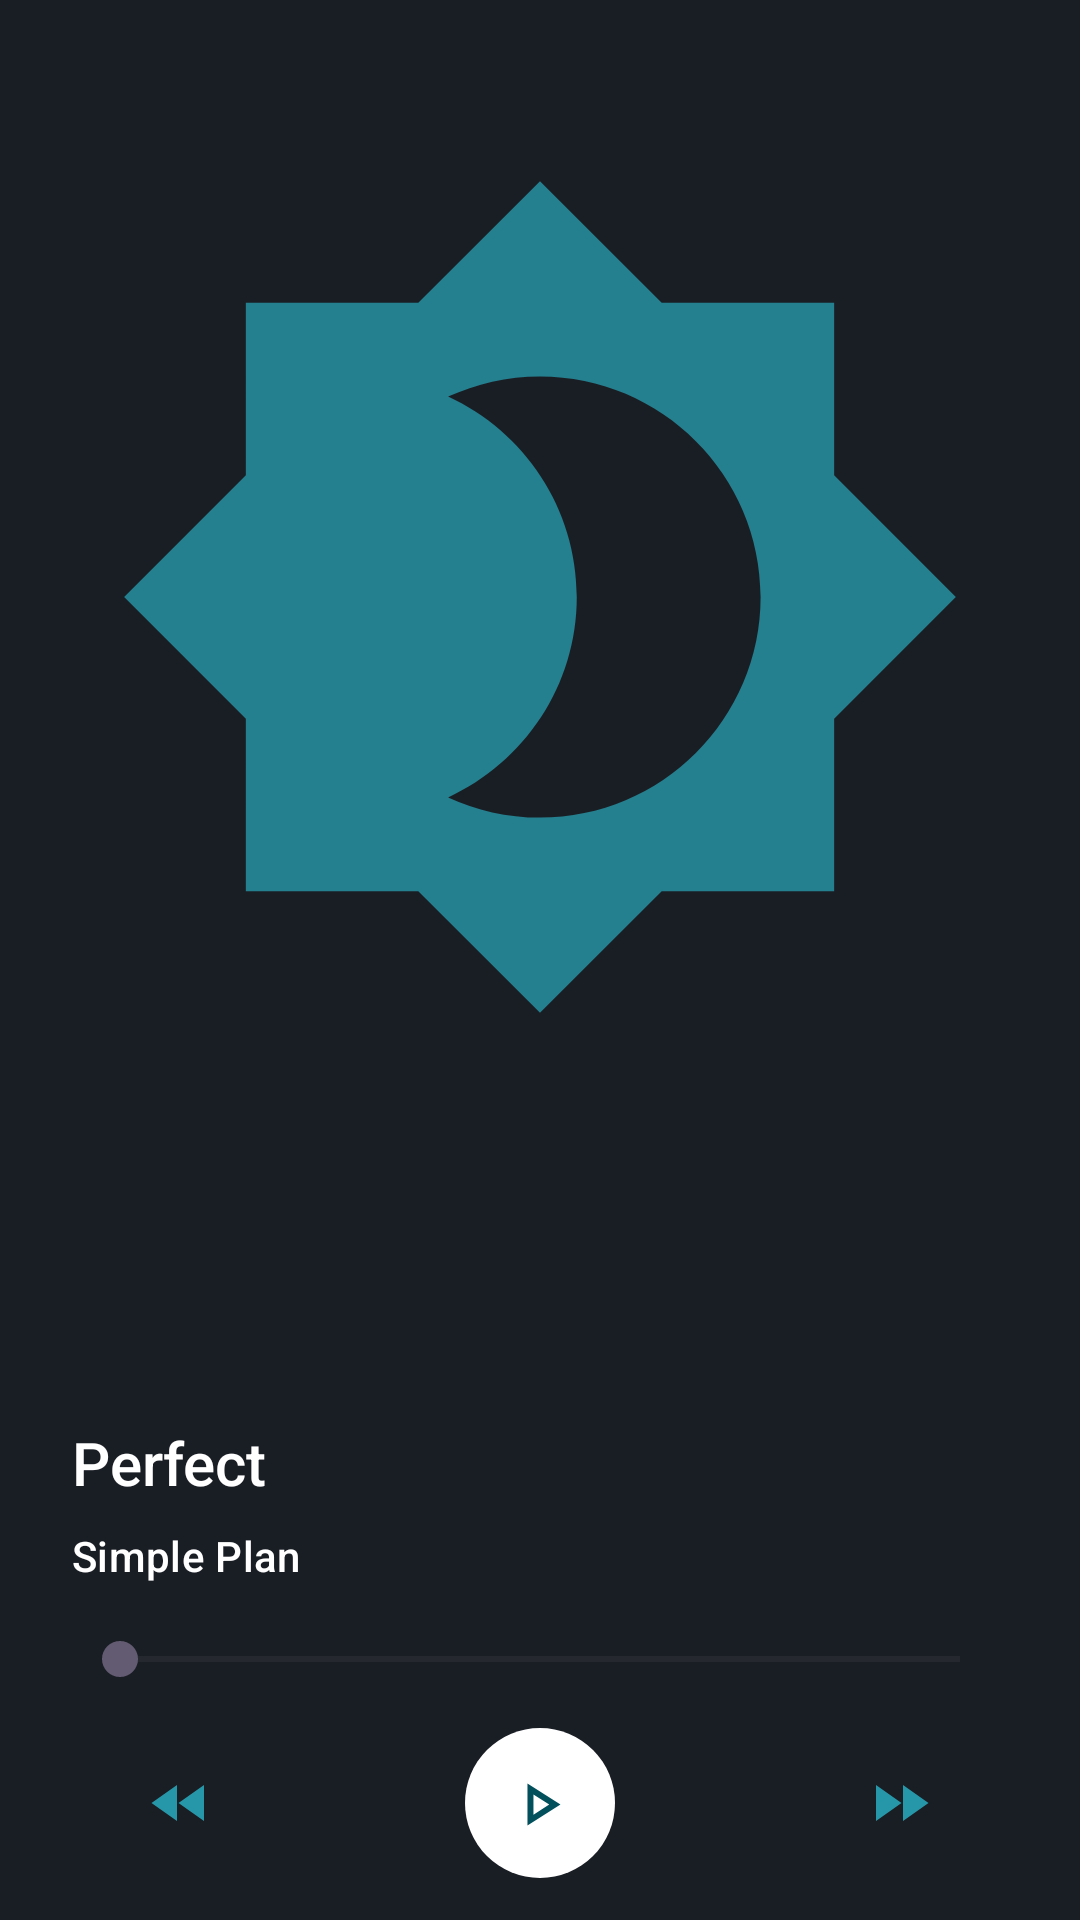

Locate icon controls on the screen. Image size 1080px×1920px, boxes as box(x1, y1, x2, y2).
fast forward: box(876, 1785, 928, 1821)
fast rewind: box(152, 1785, 204, 1821)
play arrow: box(465, 1728, 615, 1878)
